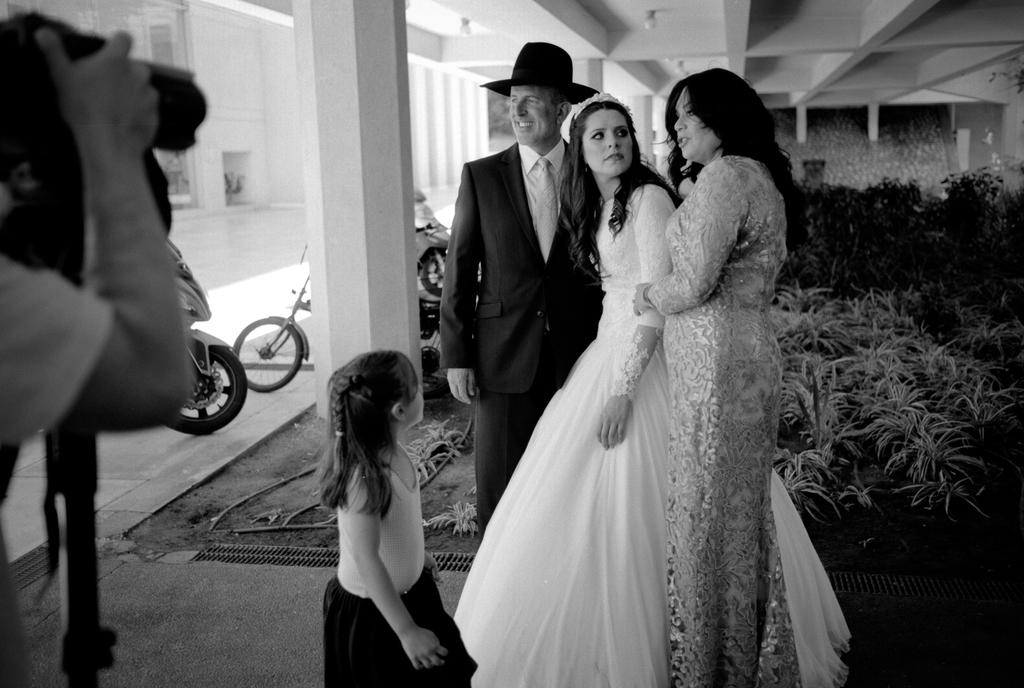Hat: (482, 40, 600, 107)
